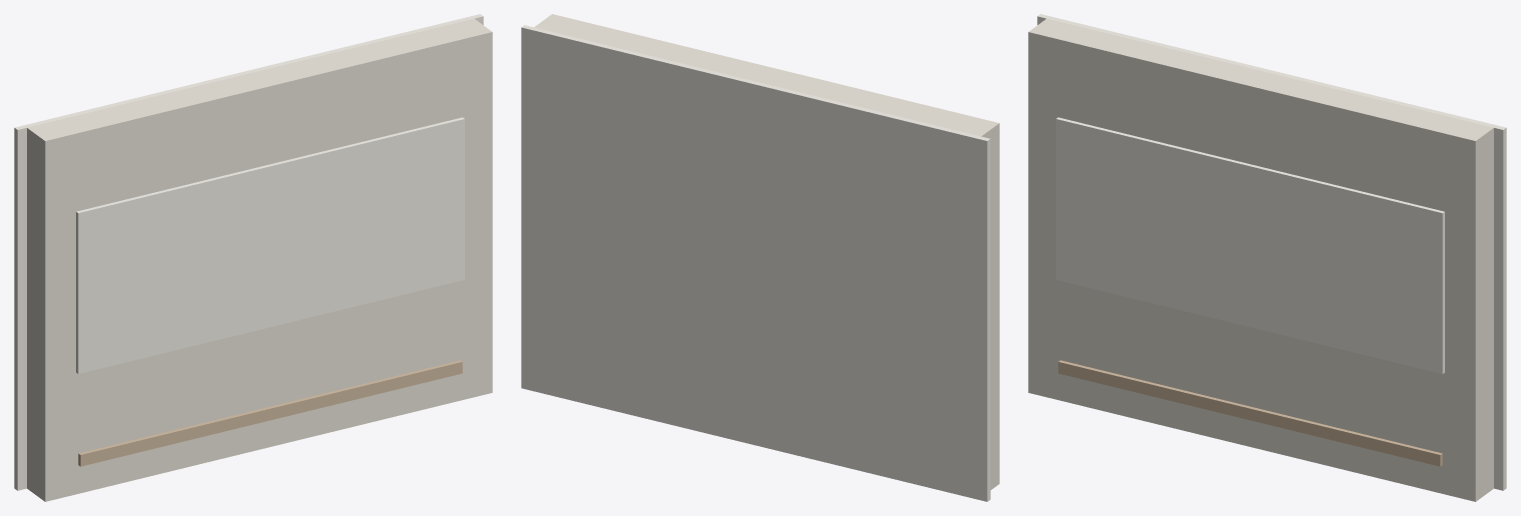
The model's file is archive-cassette.glb.
3 views of the same model, side by side, from view 1: azimuth 30°, elevation 25°; view 2: azimuth 150°, elevation 25°; view 3: azimuth 330°, elevation 25° (orthographic).
Parts seen in each view (by area): view 1: Generic_Optical_Diffuser, Generic_Printed_Label, Generic_Ivory_Edges, Generic_Index_Inlay; view 2: Generic_Ivory_Edges, Generic_Optical_Diffuser; view 3: Generic_Optical_Diffuser, Generic_Printed_Label, Generic_Ivory_Edges, Generic_Index_Inlay.
Boxes of the visible parts, x1=… form: Generic_Optical_Diffuser: x1=27, y1=18, x2=492, y2=501; Generic_Printed_Label: x1=76, y1=117, x2=464, y2=373; Generic_Ivory_Edges: x1=14, y1=14, x2=483, y2=490; Generic_Index_Inlay: x1=78, y1=360, x2=462, y2=466; Generic_Ivory_Edges: x1=521, y1=25, x2=990, y2=501; Generic_Optical_Diffuser: x1=534, y1=14, x2=999, y2=489; Generic_Optical_Diffuser: x1=1028, y1=18, x2=1493, y2=501; Generic_Printed_Label: x1=1056, y1=117, x2=1444, y2=373; Generic_Ivory_Edges: x1=1037, y1=14, x2=1506, y2=490; Generic_Index_Inlay: x1=1058, y1=360, x2=1442, y2=466.
Bounding box in the file's own units: 5 × 3.7 × 0.45.
